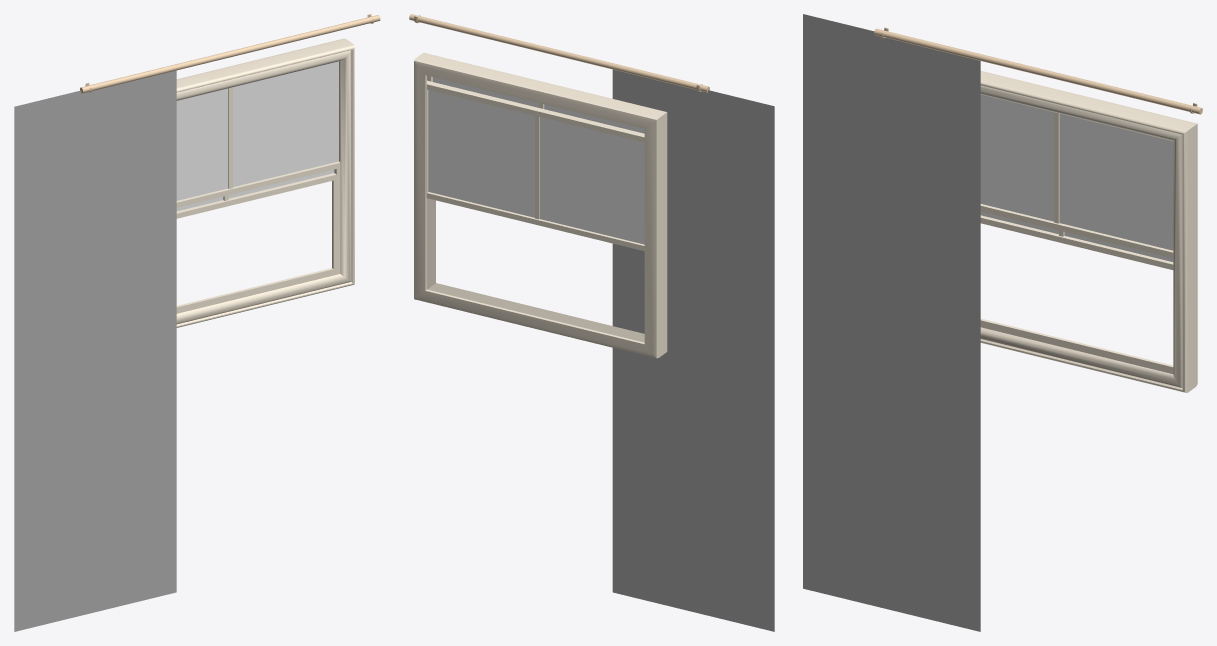
The model's file is AP_WindowCurtainALPHA_HB.fbx.
3 renders of one model, left to right at view 1: azimuth 30°, elevation 25°; view 2: azimuth 150°, elevation 25°; view 3: azimuth 330°, elevation 25°, orthographic. The views are drawn at different scales.
Parts seen in each view (by area): view 1: pasted__pPlane6, pasted__pPlane4, pasted__pCube4, pCylinder1, pasted__pCube6, pasted__pCube5, pasted__pPlane3; view 2: pasted__pPlane6, pasted__pPlane3, pasted__pCube4, pasted__pCube5, pCylinder1, pasted__pPlane4; view 3: pasted__pPlane6, pasted__pPlane4, pasted__pCube4, pCylinder1, pasted__pCube6, pasted__pCube5, pasted__pPlane3.
Part boxes in pixels (left/top/right/bottom): pasted__pPlane6: left=14, top=70, right=176, bottom=631; pasted__pPlane4: left=176, top=61, right=338, bottom=200; pasted__pCube4: left=176, top=38, right=354, bottom=327; pCylinder1: left=80, top=15, right=380, bottom=93; pasted__pCube6: left=176, top=61, right=340, bottom=207; pasted__pCube5: left=176, top=168, right=340, bottom=218; pasted__pPlane3: left=176, top=169, right=334, bottom=211; pasted__pPlane6: left=612, top=69, right=774, bottom=631; pasted__pPlane3: left=428, top=90, right=644, bottom=244; pasted__pCube4: left=414, top=53, right=667, bottom=358; pasted__pCube5: left=426, top=80, right=644, bottom=251; pCylinder1: left=409, top=14, right=709, bottom=92; pasted__pPlane4: left=433, top=77, right=644, bottom=133; pasted__pPlane6: left=803, top=14, right=980, bottom=631; pasted__pPlane4: left=980, top=94, right=1173, bottom=250; pasted__pCube4: left=980, top=71, right=1197, bottom=392; pCylinder1: left=874, top=28, right=1202, bottom=114; pasted__pCube6: left=980, top=112, right=1173, bottom=257; pasted__pCube5: left=980, top=215, right=1173, bottom=269; pasted__pPlane3: left=980, top=211, right=1173, bottom=261.
Bounding box in the file's own units: 1.8 × 2.5 × 0.1551.
